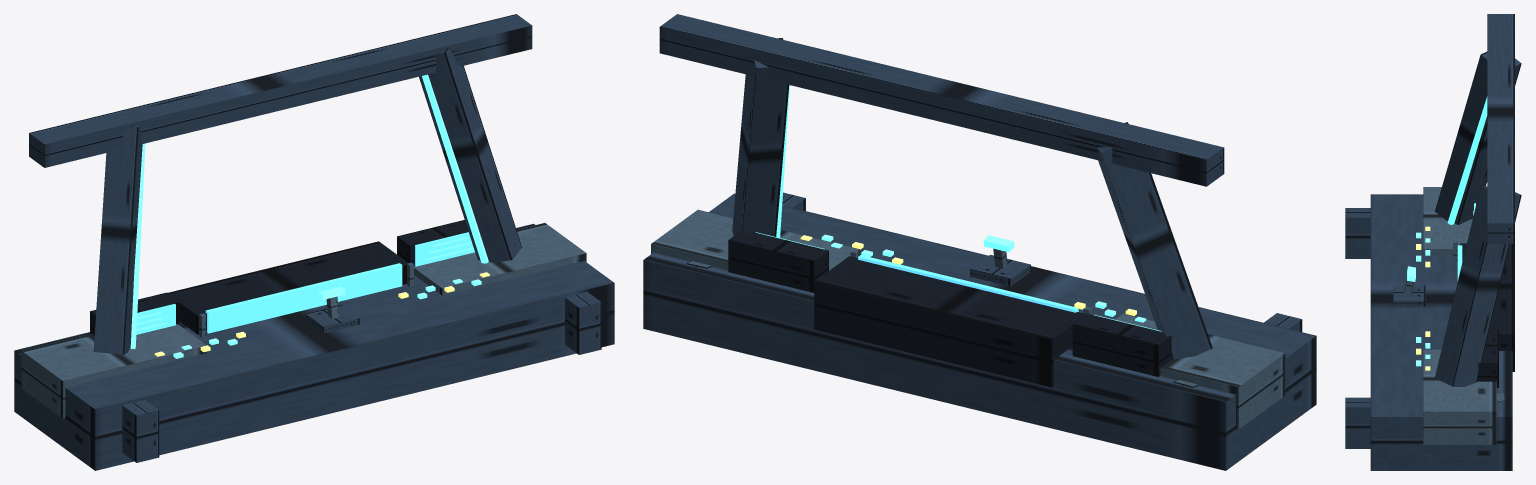
The model's file is cockpit-salto-luz.glb.
3 renders of one model, left to right at view 1: azimuth 30°, elevation 25°; view 2: azimuth 150°, elevation 25°; view 3: azimuth 270°, elevation 25°, orthographic. The views are drawn at different scales.
Parts seen in each view (by area): view 1: Painel inferior, Travessa superior do para-brisa, Montante chanfrado do para-brisa.001, Montante chanfrado do para-brisa, Ombreira do painel, Chassi do computador de navegação, Ombreira do painel.001, Vidro do computador, Apoio lateral, Apoio lateral.001, Friso luminoso.001, Monitor de diagnóstico.001 (+5 smaller); view 2: Painel inferior, Travessa superior do para-brisa, Chassi do computador de navegação, Montante chanfrado do para-brisa, Montante chanfrado do para-brisa.001, Ombreira do painel, Monitor de diagnóstico, Monitor de diagnóstico.001, Ombreira do painel.001, Vidro do computador, Base da alavanca de dobra; view 3: Painel inferior, Montante chanfrado do para-brisa.001, Travessa superior do para-brisa, Ombreira do painel.001, Montante chanfrado do para-brisa, Ombreira do painel, Chassi do computador de navegação, Apoio lateral.001, Apoio lateral, Friso luminoso, Monitor de diagnóstico.001, Base da alavanca de dobra.
Boxes of the visible parts, left/top/right/bottom form: Painel inferior: left=14, top=223, right=614, bottom=470; Travessa superior do para-brisa: left=29, top=14, right=532, bottom=167; Montante chanfrado do para-brisa.001: left=419, top=48, right=521, bottom=262; Montante chanfrado do para-brisa: left=93, top=126, right=142, bottom=354; Ombreira do painel: left=21, top=324, right=207, bottom=418; Chassi do computador de navegação: left=168, top=241, right=408, bottom=334; Ombreira do painel.001: left=414, top=223, right=586, bottom=295; Vidro do computador: left=205, top=263, right=402, bottom=333; Apoio lateral: left=122, top=400, right=159, bottom=462; Apoio lateral.001: left=565, top=292, right=601, bottom=354; Friso luminoso.001: left=422, top=74, right=488, bottom=263; Monitor de diagnóstico.001: left=397, top=220, right=468, bottom=265; Painel inferior: left=643, top=193, right=1316, bottom=470; Travessa superior do para-brisa: left=659, top=14, right=1224, bottom=186; Chassi do computador de navegação: left=814, top=256, right=1085, bottom=387; Montante chanfrado do para-brisa: left=1097, top=122, right=1212, bottom=359; Montante chanfrado do para-brisa.001: left=732, top=38, right=789, bottom=236; Ombreira do painel: left=1115, top=313, right=1285, bottom=429; Monitor de diagnóstico: left=1072, top=313, right=1173, bottom=376; Monitor de diagnóstico.001: left=728, top=231, right=828, bottom=292; Ombreira do painel.001: left=651, top=209, right=859, bottom=270; Vidro do computador: left=858, top=255, right=1078, bottom=312; Base da alavanca de dobra: left=970, top=254, right=1030, bottom=286; Painel inferior: left=1370, top=194, right=1512, bottom=470; Montante chanfrado do para-brisa.001: left=1435, top=186, right=1521, bottom=386; Travessa superior do para-brisa: left=1487, top=14, right=1514, bottom=243; Ombreira do painel.001: left=1423, top=349, right=1496, bottom=444; Montante chanfrado do para-brisa: left=1435, top=51, right=1521, bottom=224; Ombreira do painel: left=1423, top=187, right=1472, bottom=255; Chassi do computador de navegação: left=1460, top=243, right=1514, bottom=371; Apoio lateral.001: left=1345, top=397, right=1370, bottom=448; Apoio lateral: left=1345, top=208, right=1370, bottom=258; Friso luminoso: left=1447, top=96, right=1487, bottom=224; Monitor de diagnóstico.001: left=1477, top=330, right=1498, bottom=387; Base da alavanca de dobra: left=1393, top=285, right=1425, bottom=306.
Size of the model in its own units: 116 by 58 by 38.48.
6 materials, 3 textured.
